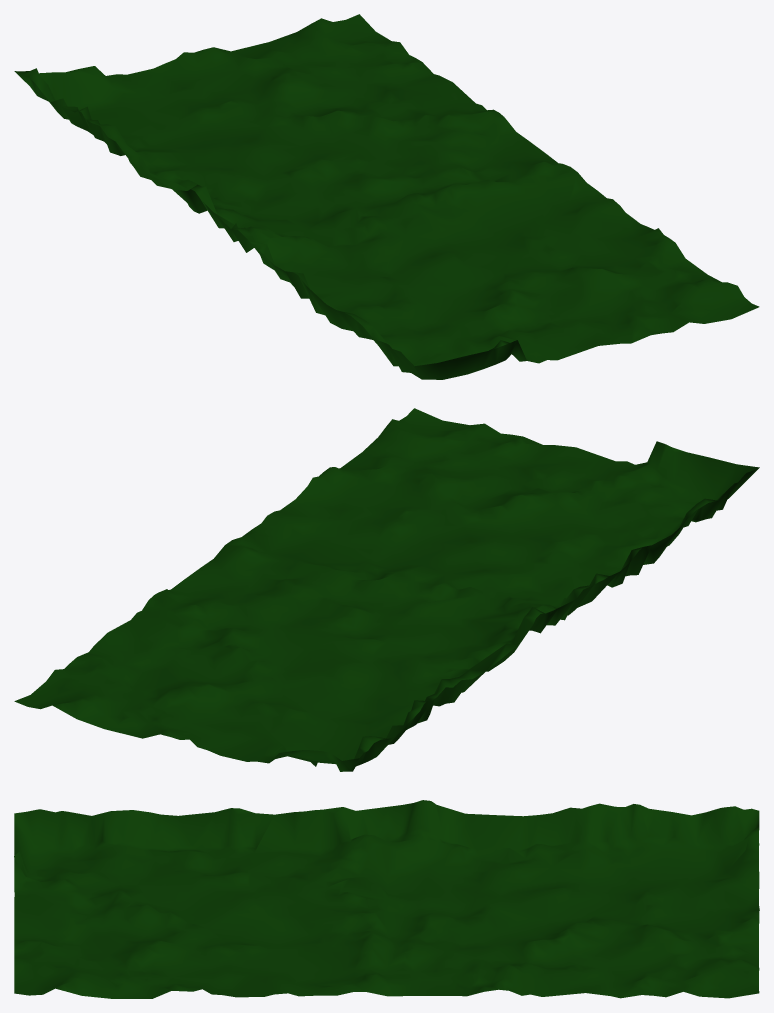
Rendered from Landscape.fbx.
3 renders of one model, top to bottom at view 1: azimuth 30°, elevation 25°; view 2: azimuth 150°, elevation 25°; view 3: azimuth 270°, elevation 25°, orthographic. The views are drawn at different scales.
Visible parts, largest first — view 1: Landscape; view 2: Landscape; view 3: Landscape.
Boxes of the visible parts, box(x1,y1,x2,y2) form: Landscape: box(14, 14, 759, 379); Landscape: box(14, 408, 759, 771); Landscape: box(14, 800, 759, 998).
Bounding box in the file's own units: 2008 × 278 × 4022.
